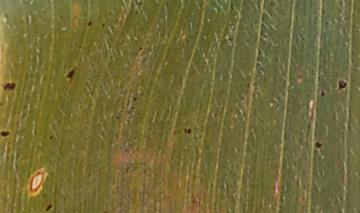tarspot: (336, 77, 349, 89), (2, 81, 17, 90), (65, 67, 75, 79), (1, 129, 10, 138), (182, 126, 191, 135), (45, 203, 53, 213), (313, 140, 322, 148), (318, 89, 326, 97), (86, 19, 93, 27), (47, 133, 54, 141), (137, 44, 144, 51), (132, 94, 137, 102), (135, 1, 143, 6), (100, 22, 106, 28), (57, 14, 64, 19), (115, 116, 121, 121), (1, 101, 4, 107)
